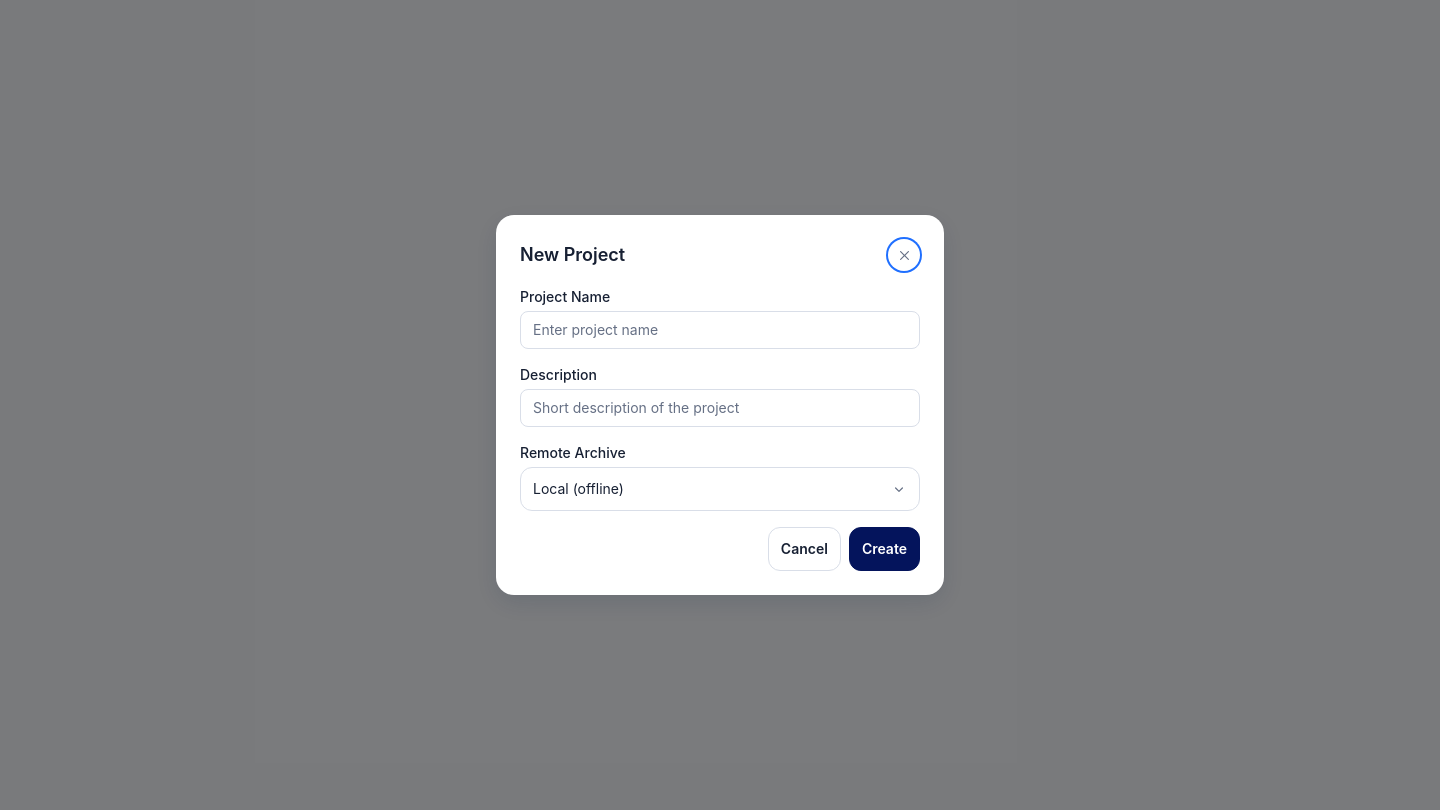
Test: CreateProjectDialog › shows default error message when createProject fails with non-Error
The width and height of the screenshot is (1440, 810).
Click the button "Create" at (884, 549), box [849,527,920,571]
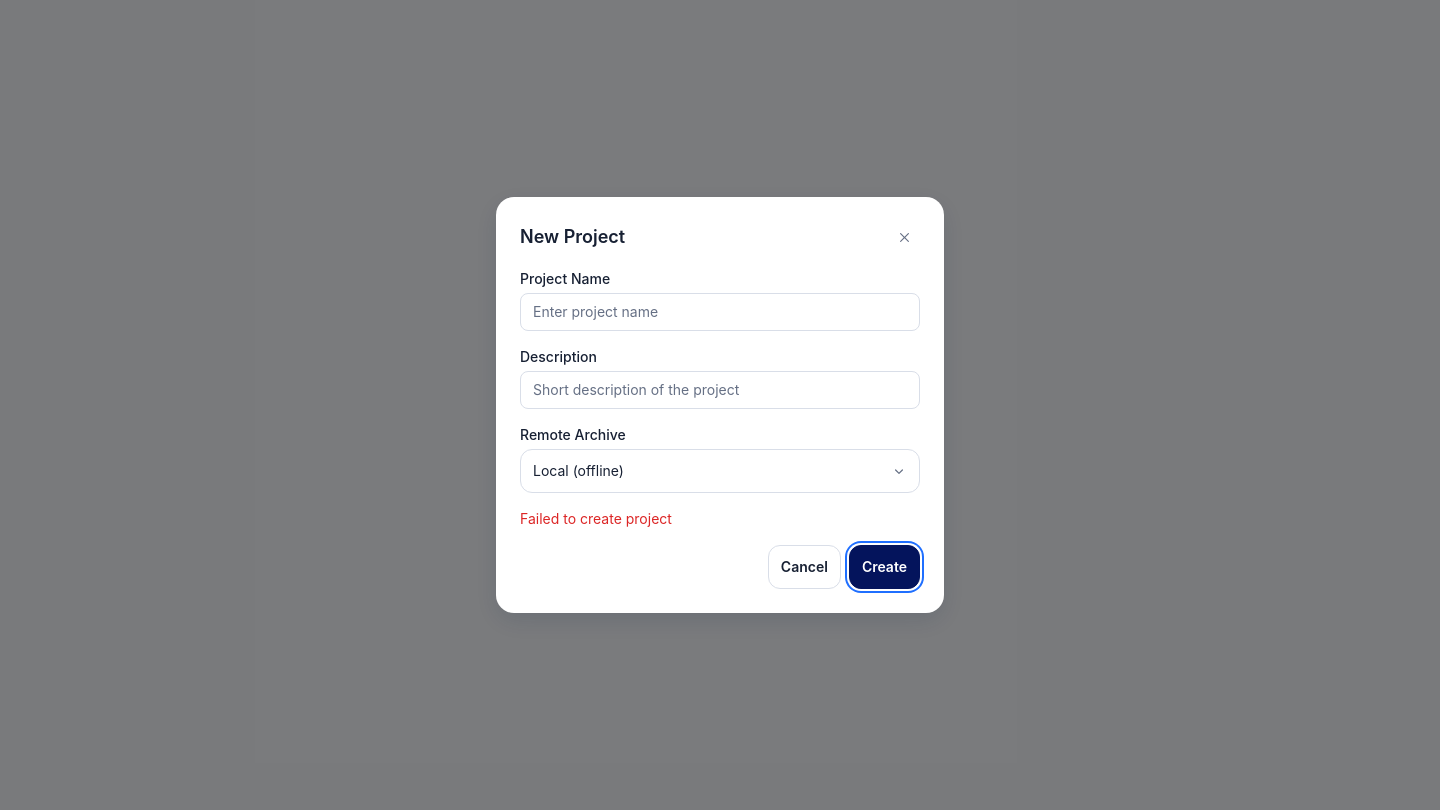
Now the text "Failed to create project" is shown, box [520,510,672,527]
